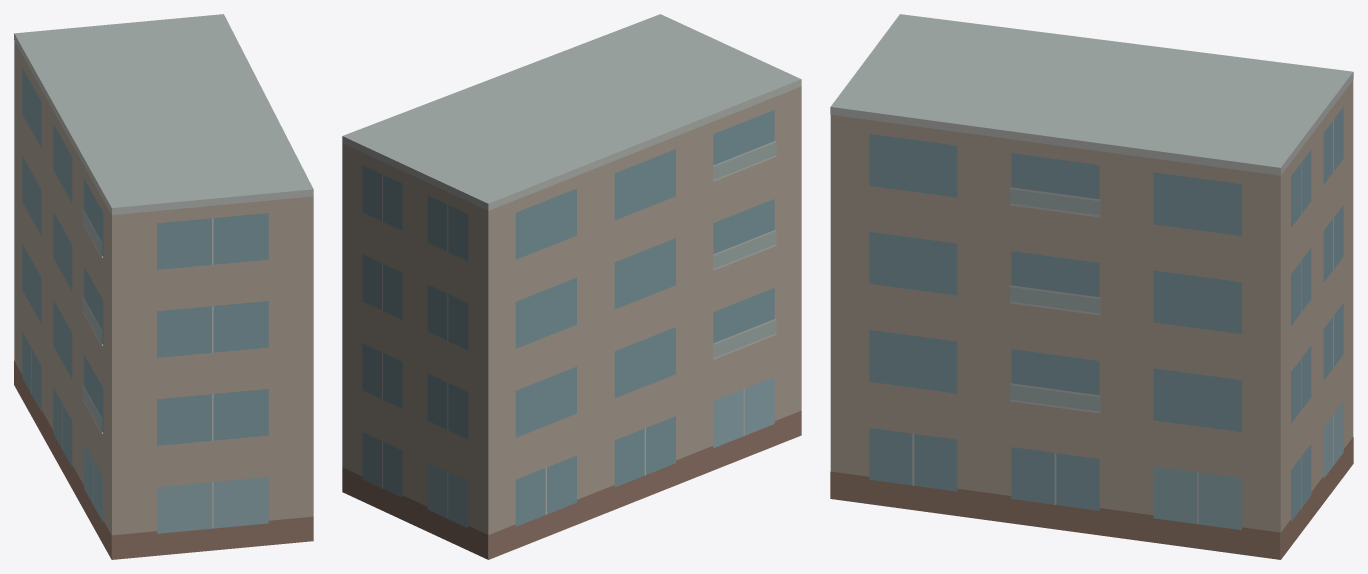
File: survey-upis-32672569.glb
The picture shows the model from 3 angles, left to right: view 1: azimuth 30°, elevation 25°; view 2: azimuth 150°, elevation 25°; view 3: azimuth 270°, elevation 25°; orthographic projection. The views are drawn at different scales.
Parts seen in each view (by area): view 1: survey-upis-32672569.tmp; view 2: survey-upis-32672569.tmp; view 3: survey-upis-32672569.tmp.
Part boxes in pixels (x1=…): survey-upis-32672569.tmp: x1=14, y1=14, x2=313, y2=559; survey-upis-32672569.tmp: x1=342, y1=14, x2=801, y2=559; survey-upis-32672569.tmp: x1=830, y1=14, x2=1353, y2=559.
Size of the model in its own units: 10.28 by 12.2 by 14.76.
